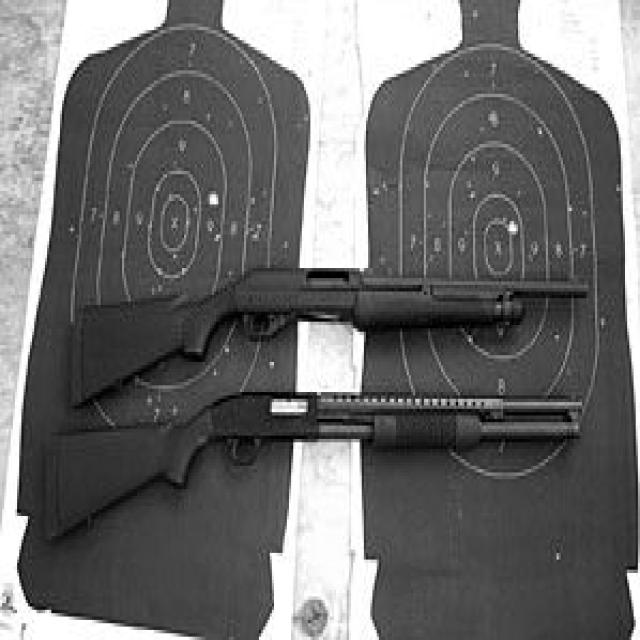ShotGun: (45, 392, 584, 543), (71, 268, 586, 409)
